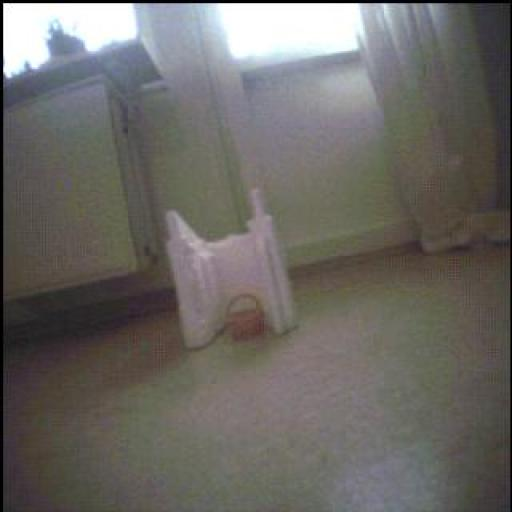Basket: (228, 296, 265, 341)
